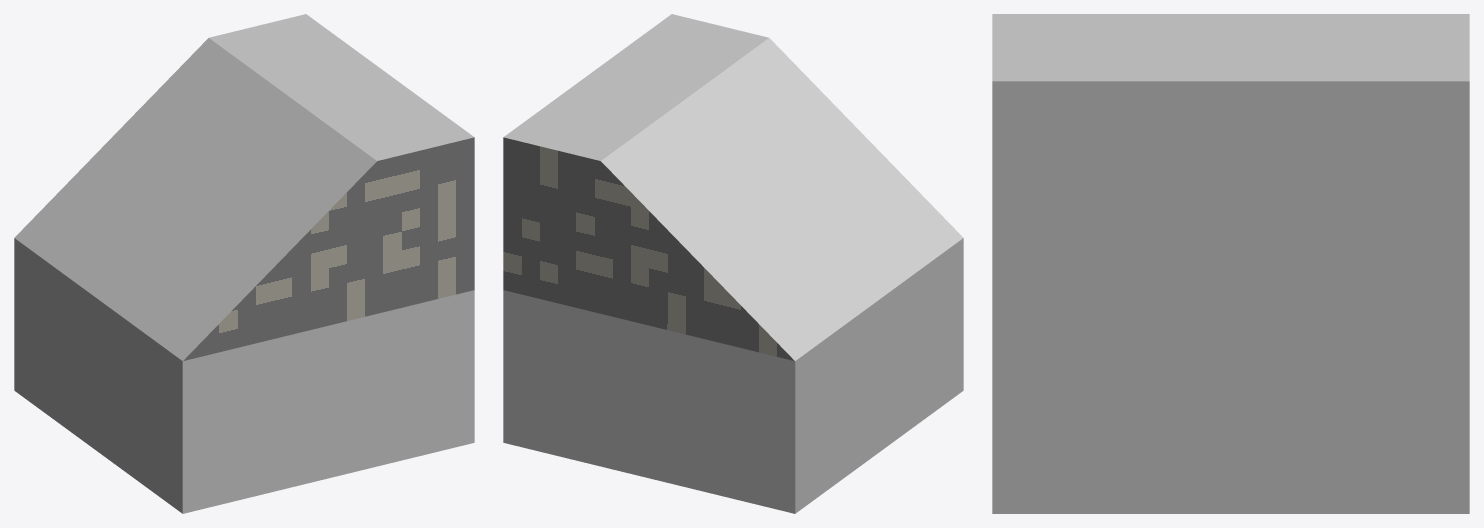
The model's file is slope75_shave4_base8.obj.
3 views of the same model, side by side, from view 1: azimuth 30°, elevation 25°; view 2: azimuth 150°, elevation 25°; view 3: azimuth 270°, elevation 25° (orthographic). The views are drawn at different scales.
Bounding box in the file's own units: 1 × 1 × 1.
